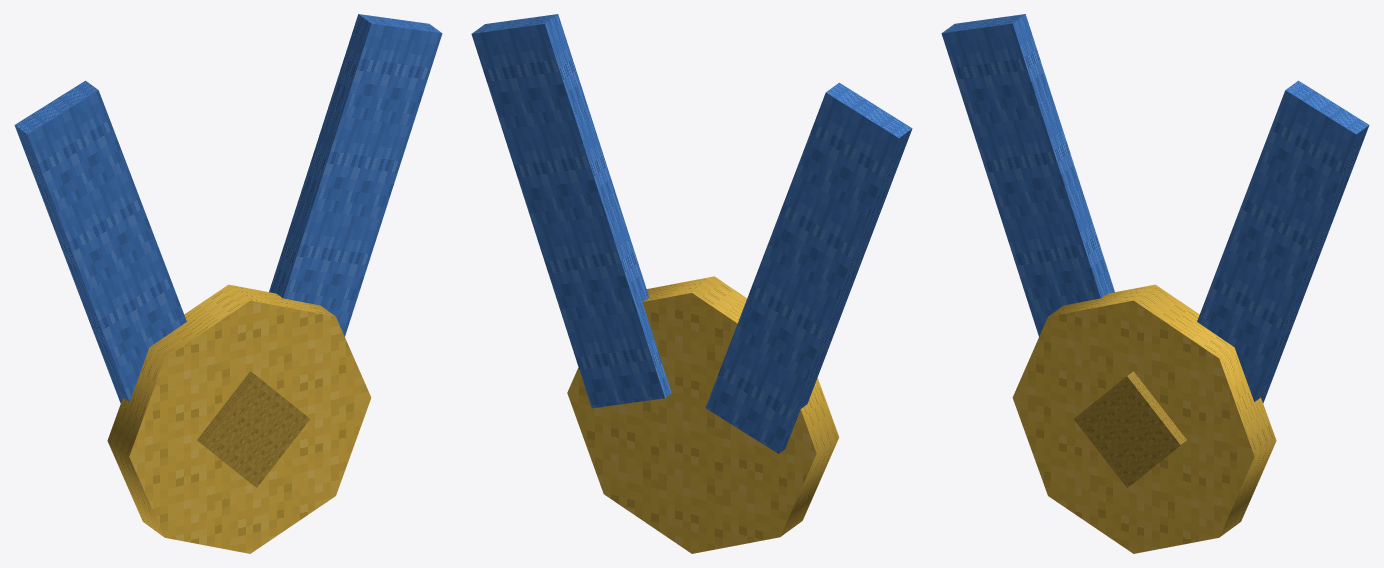
Rendered from medalla_de_oro.glb.
3 views of the same model, side by side, from view 1: azimuth 30°, elevation 25°; view 2: azimuth 150°, elevation 25°; view 3: azimuth 330°, elevation 25° (orthographic). The views are drawn at different scales.
Visible parts, largest first — view 1: _MeshInstance3D_233, _MeshInstance3D_232, _MeshInstance3D_231, _MeshInstance3D_234; view 2: _MeshInstance3D_233, _MeshInstance3D_232, _MeshInstance3D_231; view 3: _MeshInstance3D_233, _MeshInstance3D_231, _MeshInstance3D_232, _MeshInstance3D_234.
Part boxes in pixels (bbox=[...]): _MeshInstance3D_233: bbox=[107, 284, 371, 553]; _MeshInstance3D_232: bbox=[269, 14, 442, 336]; _MeshInstance3D_231: bbox=[14, 80, 186, 403]; _MeshInstance3D_234: bbox=[197, 371, 309, 487]; _MeshInstance3D_233: bbox=[567, 276, 839, 553]; _MeshInstance3D_232: bbox=[471, 14, 671, 408]; _MeshInstance3D_231: bbox=[705, 82, 912, 453]; _MeshInstance3D_233: bbox=[1012, 284, 1276, 553]; _MeshInstance3D_231: bbox=[941, 14, 1114, 336]; _MeshInstance3D_232: bbox=[1197, 80, 1369, 403]; _MeshInstance3D_234: bbox=[1074, 371, 1186, 487].
Size of the model in its own units: 0.1096 by 0.1227 by 0.016.
3 materials, 3 textured.
